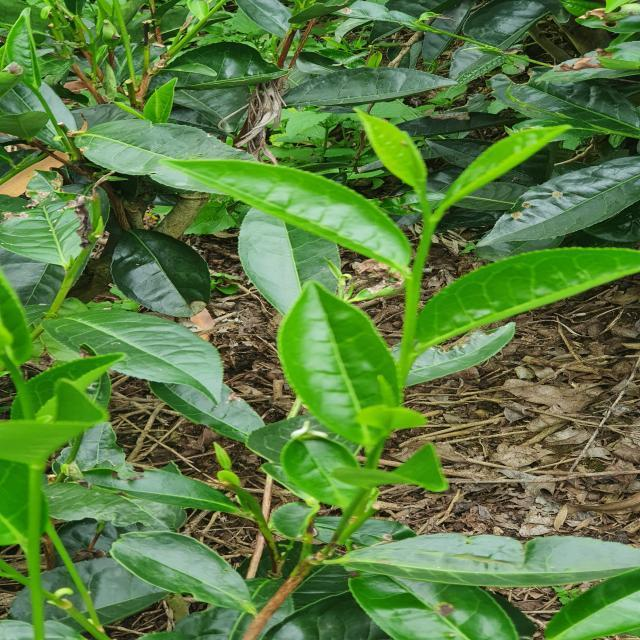Stem: (422, 220, 438, 238)
